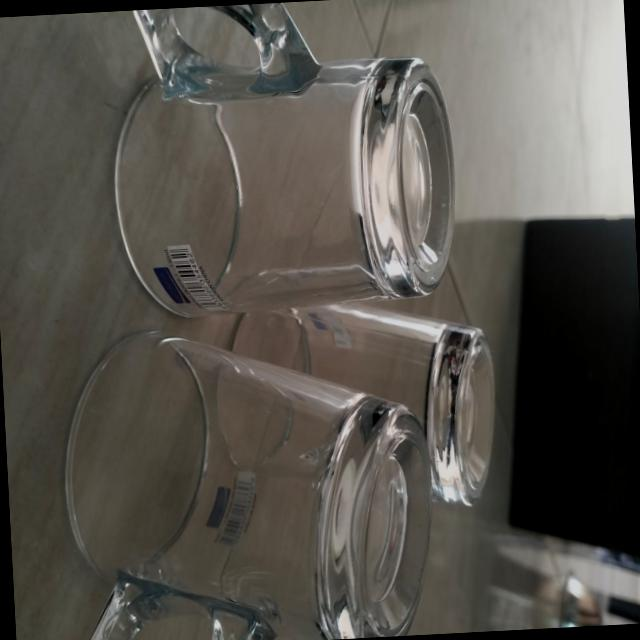glass-VX4N: (60, 314, 439, 640), (107, 0, 463, 324), (206, 299, 504, 536)
